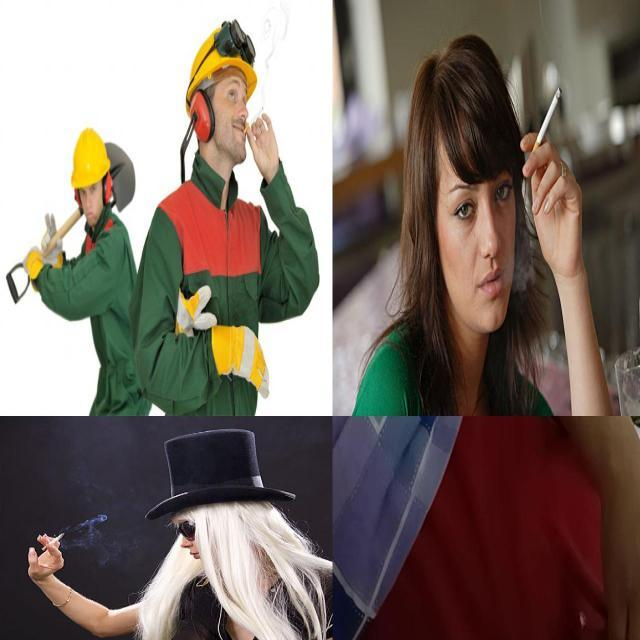smoking: (521, 83, 563, 173), (243, 106, 264, 136), (40, 532, 66, 552)
